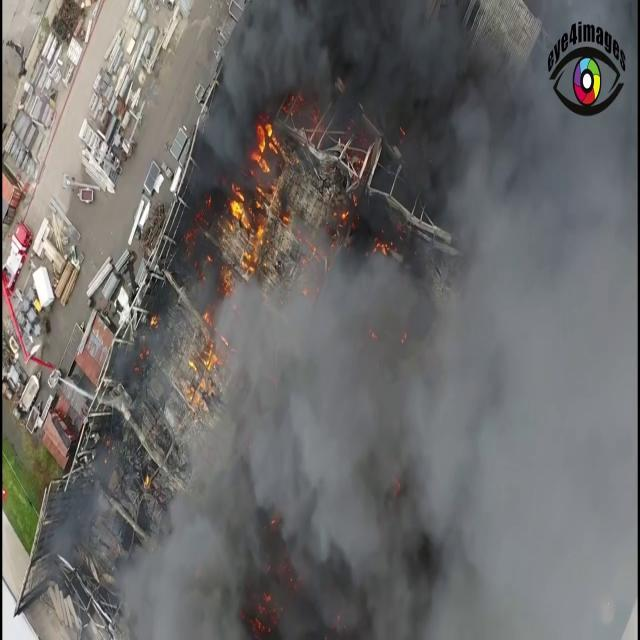Fire: (222, 111, 300, 260)
Smoke: (96, 0, 640, 640)
